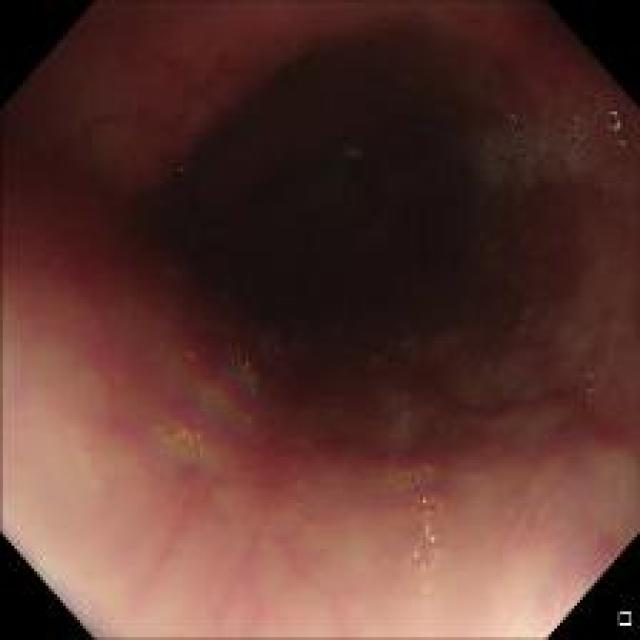bubbles: (461, 112, 624, 179), (379, 379, 438, 449), (162, 409, 210, 460), (234, 354, 262, 404), (259, 328, 291, 360), (365, 351, 386, 366)
color misalignment: (411, 495, 442, 589), (605, 108, 624, 145)
contrast: (140, 55, 569, 402)
